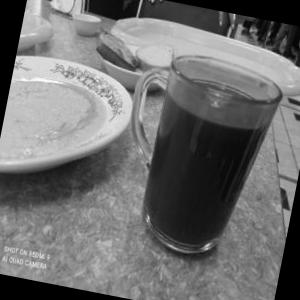coffee: (110, 36, 290, 280)
porridge: (0, 48, 121, 191)
